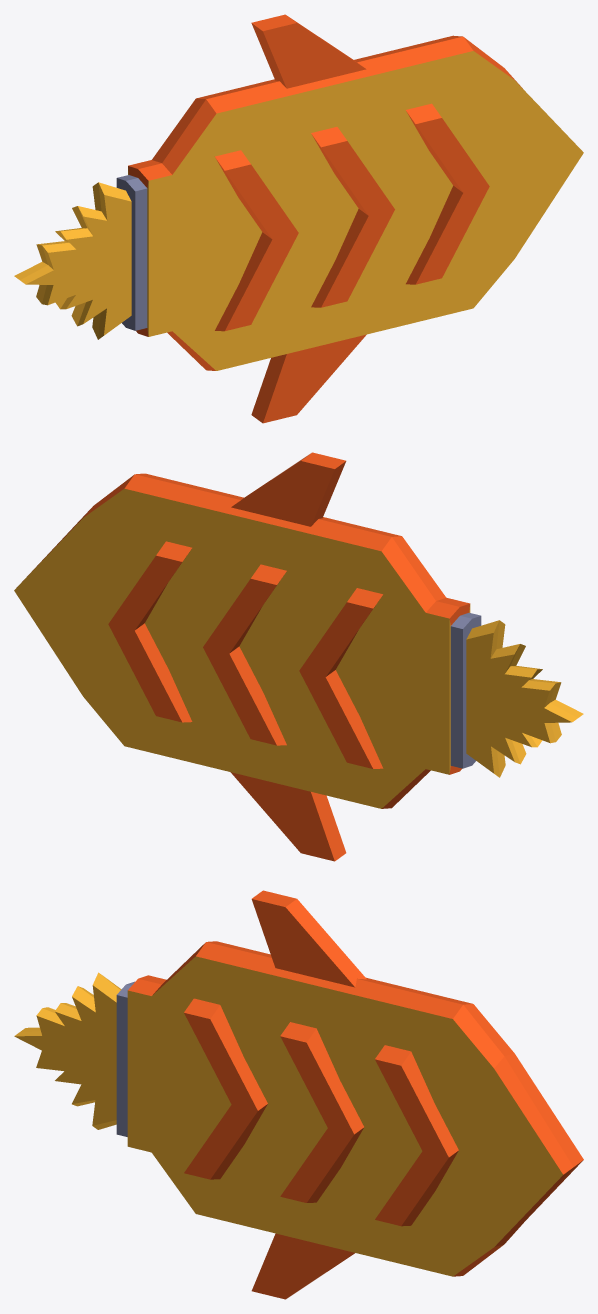
The model's file is fbBoosterSpeed.fbx.
3 views of the same model, one above another, from view 1: azimuth 30°, elevation 25°; view 2: azimuth 150°, elevation 25°; view 3: azimuth 330°, elevation 25° (orthographic).
Visible parts, largest first — view 1: Plane.001; view 2: Plane.001; view 3: Plane.001.
Boxes of the visible parts, <box> form: Plane.001: <box>14,14,583,423</box>; Plane.001: <box>14,452,583,861</box>; Plane.001: <box>14,890,583,1299</box>.
Size of the model in its own units: 123 by 83.19 by 15.68.
